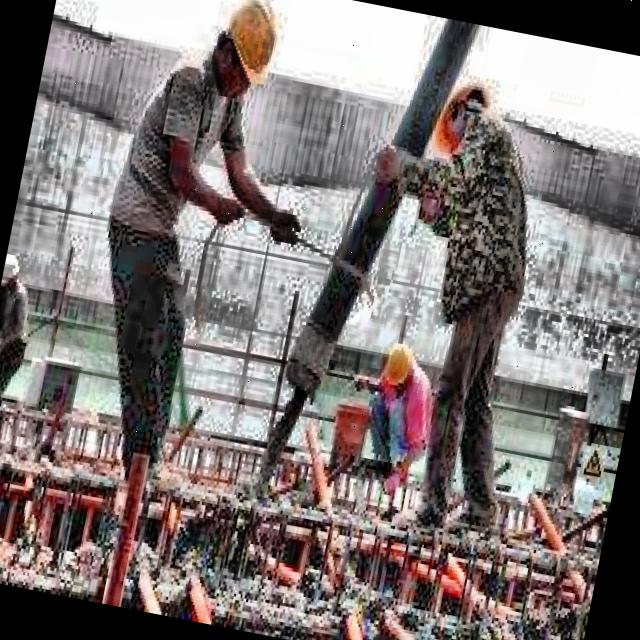helmet: (200, 0, 291, 112), (428, 68, 502, 158), (372, 334, 422, 408)
